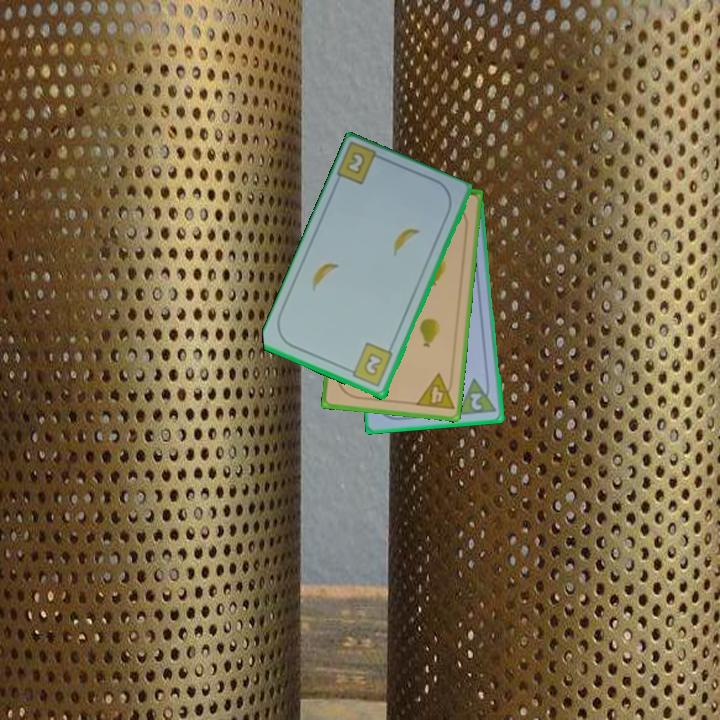2b: (344, 340, 396, 390), (342, 151, 366, 178)
2p: (455, 375, 499, 418)
4p: (412, 370, 457, 413)
